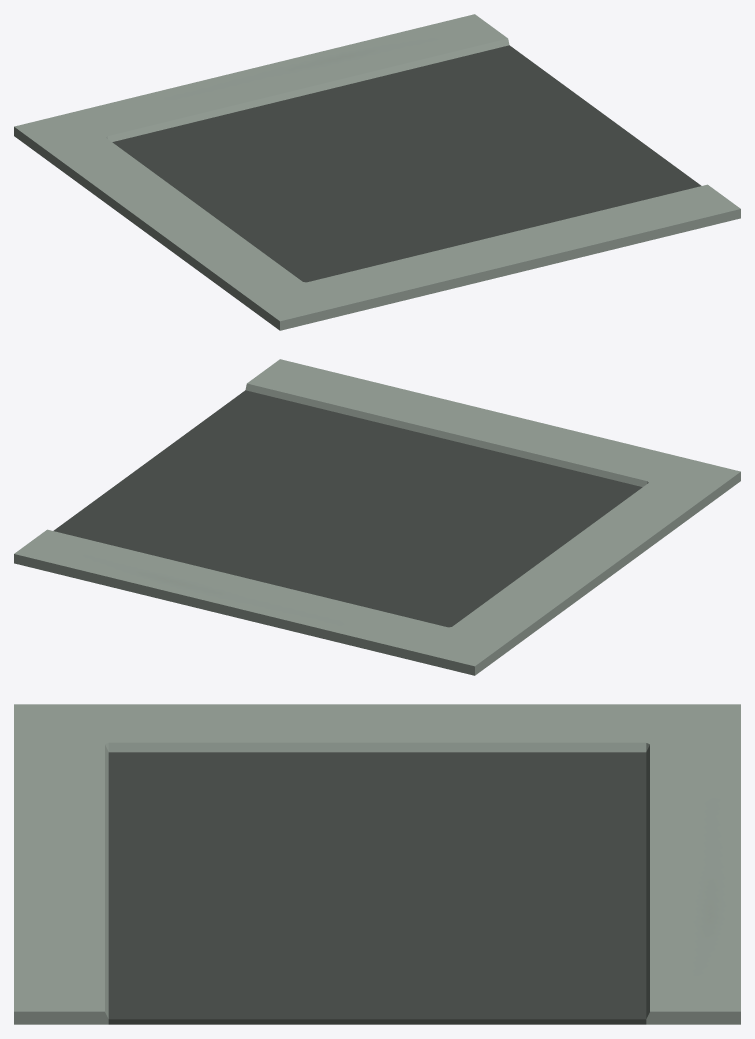
The model's file is road.006.obj.
3 renders of one model, top to bottom at view 1: azimuth 30°, elevation 25°; view 2: azimuth 150°, elevation 25°; view 3: azimuth 270°, elevation 25°, orthographic. The views are drawn at different scales.
Visible parts, largest first — view 1: Road.006; view 2: Road.006; view 3: Road.006.
Boxes of the visible parts, x1=… form: Road.006: x1=14, y1=14, x2=740, y2=330; Road.006: x1=14, y1=359, x2=740, y2=675; Road.006: x1=14, y1=704, x2=740, y2=1024.
Size of the model in its own units: 2 by 0.0393 by 2.
Materials: 1 (1 with a texture image).
